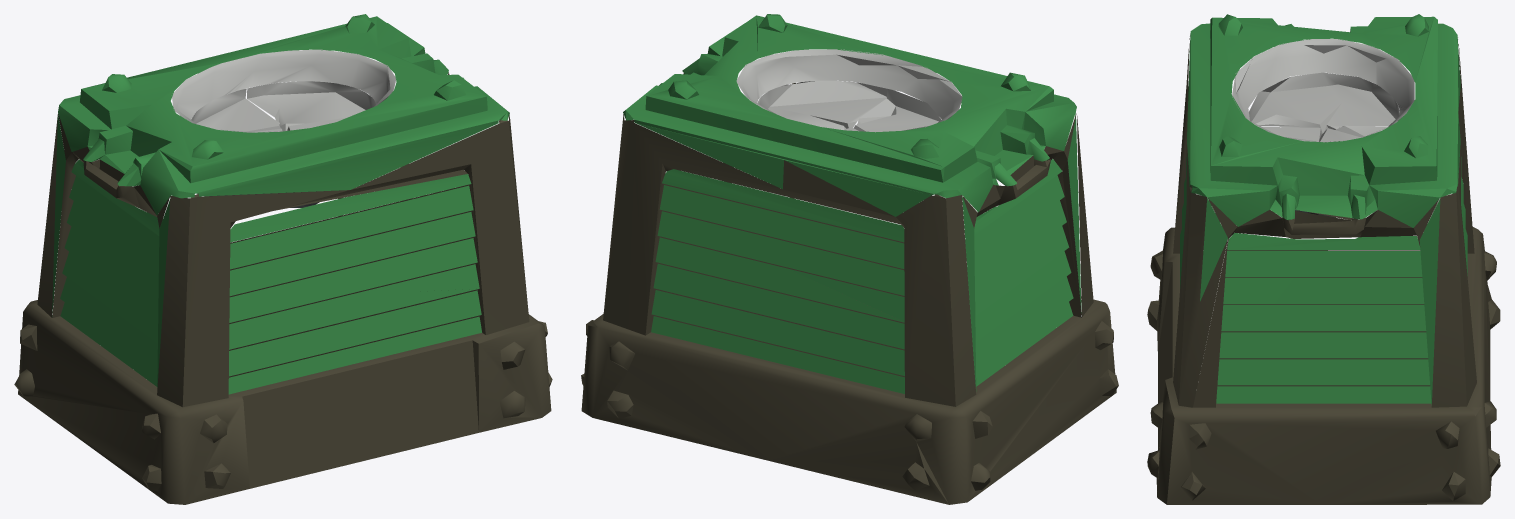
Rendered from buffer-chest.glb.
The picture shows the model from 3 angles, left to right: view 1: azimuth 30°, elevation 25°; view 2: azimuth 150°, elevation 25°; view 3: azimuth 270°, elevation 25°; orthographic projection. The views are drawn at different scales.
Parts seen in each view (by area): view 1: body, anim_hatch_e, anim_hatch_w; view 2: body, anim_hatch_e, anim_hatch_w; view 3: body, anim_hatch_w, anim_hatch_e.
Boxes of the visible parts, <box> form: body: <box>14,14,552,504</box>; anim_hatch_e: <box>247,81,375,131</box>; anim_hatch_w: <box>191,88,282,132</box>; body: <box>581,14,1118,504</box>; anim_hatch_e: <box>757,80,886,129</box>; anim_hatch_w: <box>844,88,941,132</box>; body: <box>1147,14,1500,504</box>; anim_hatch_w: <box>1249,72,1399,134</box>; anim_hatch_e: <box>1262,125,1388,142</box>.
Size of the model in its own units: 1.01 by 0.7617 by 0.7356.
